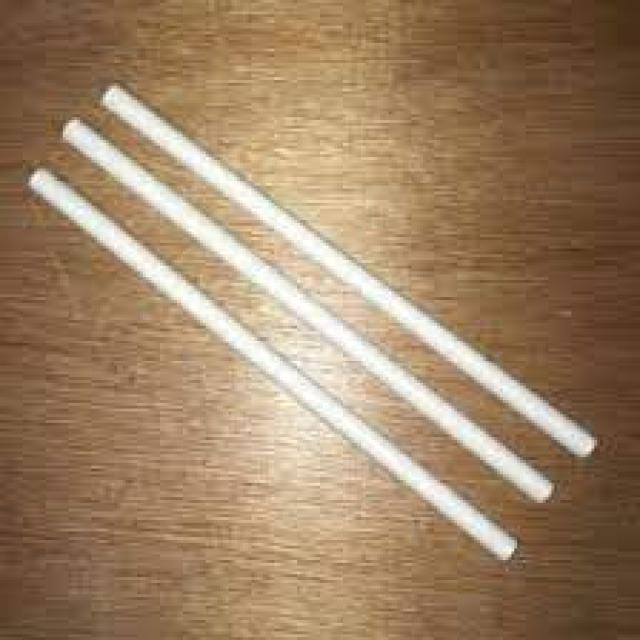straw: (31, 169, 516, 559), (65, 126, 552, 502), (106, 89, 595, 457)
